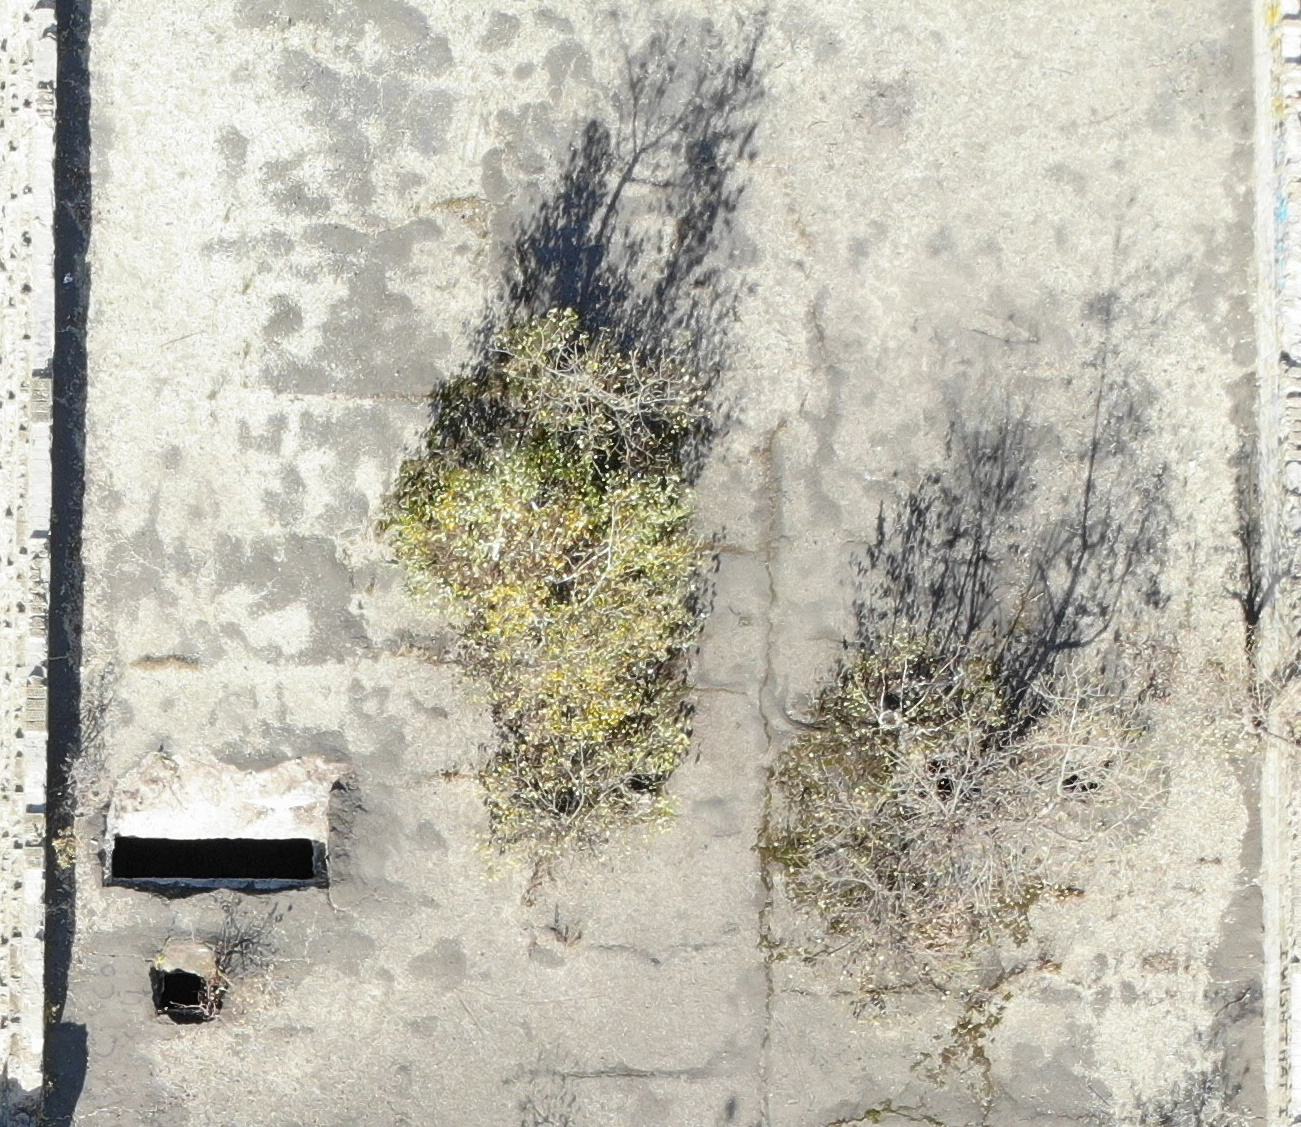tree: (777, 572, 1173, 1089), (462, 307, 738, 691), (350, 409, 604, 679), (450, 661, 702, 920)
